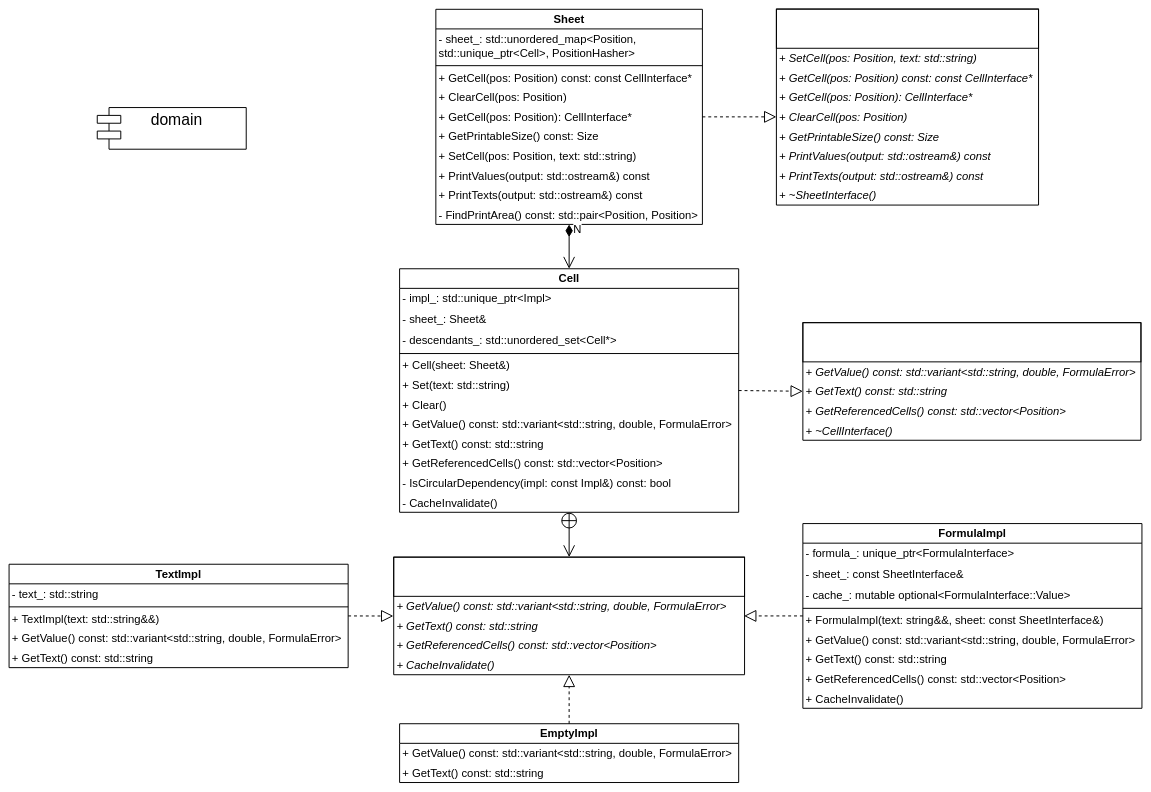
Some shapes in this 1151 by 792 pixel diagram are drawn without their labels. The shapes that lost their labels are listed below. From the top down, each one's centre as x and y in pixels, then its label:
[907,28]: «interface» SheetInterface
[971,342]: «interface» CellInterface
[569,576]: «interface» Impl
